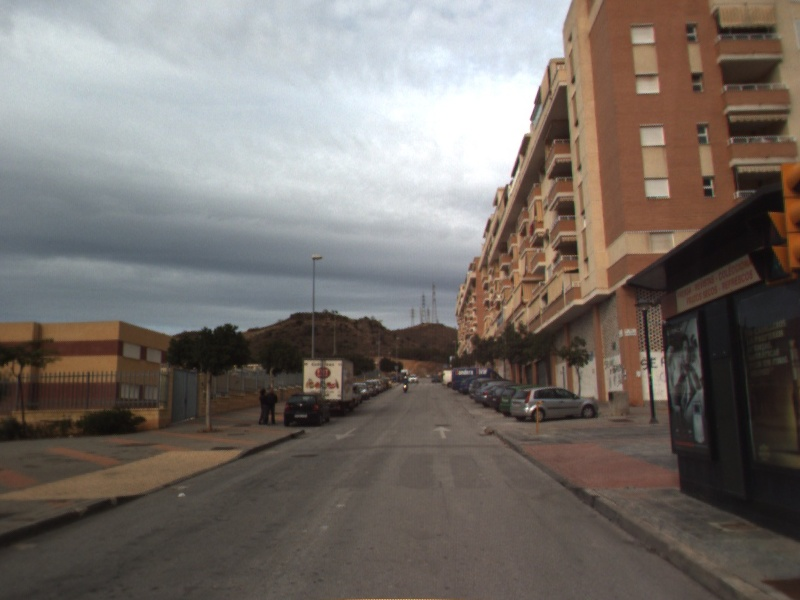STRAIGHT: (431, 424, 453, 440)
